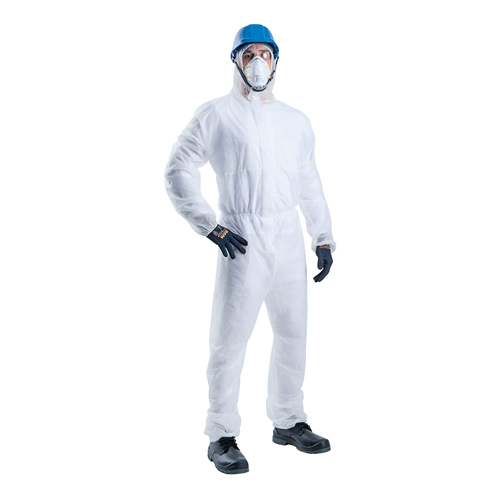Coverall: (163, 23, 334, 424)
with_mask: (240, 52, 272, 89)
